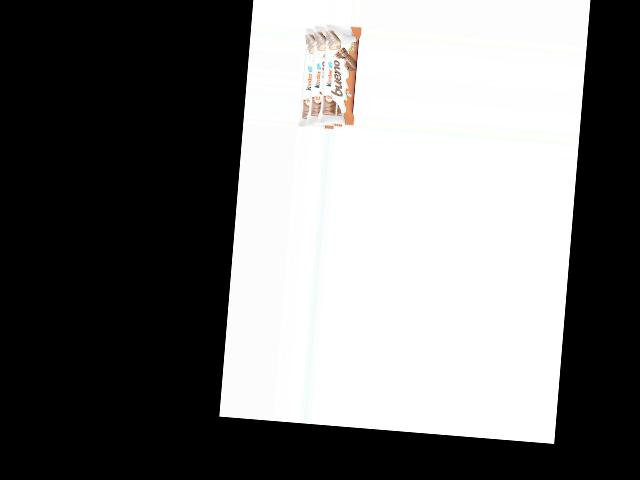chocolate: (297, 25, 362, 130)
